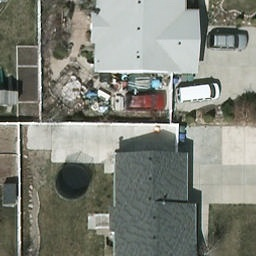car: (207, 34, 249, 51)
pickup: (127, 93, 165, 110)
van: (177, 84, 222, 103)
